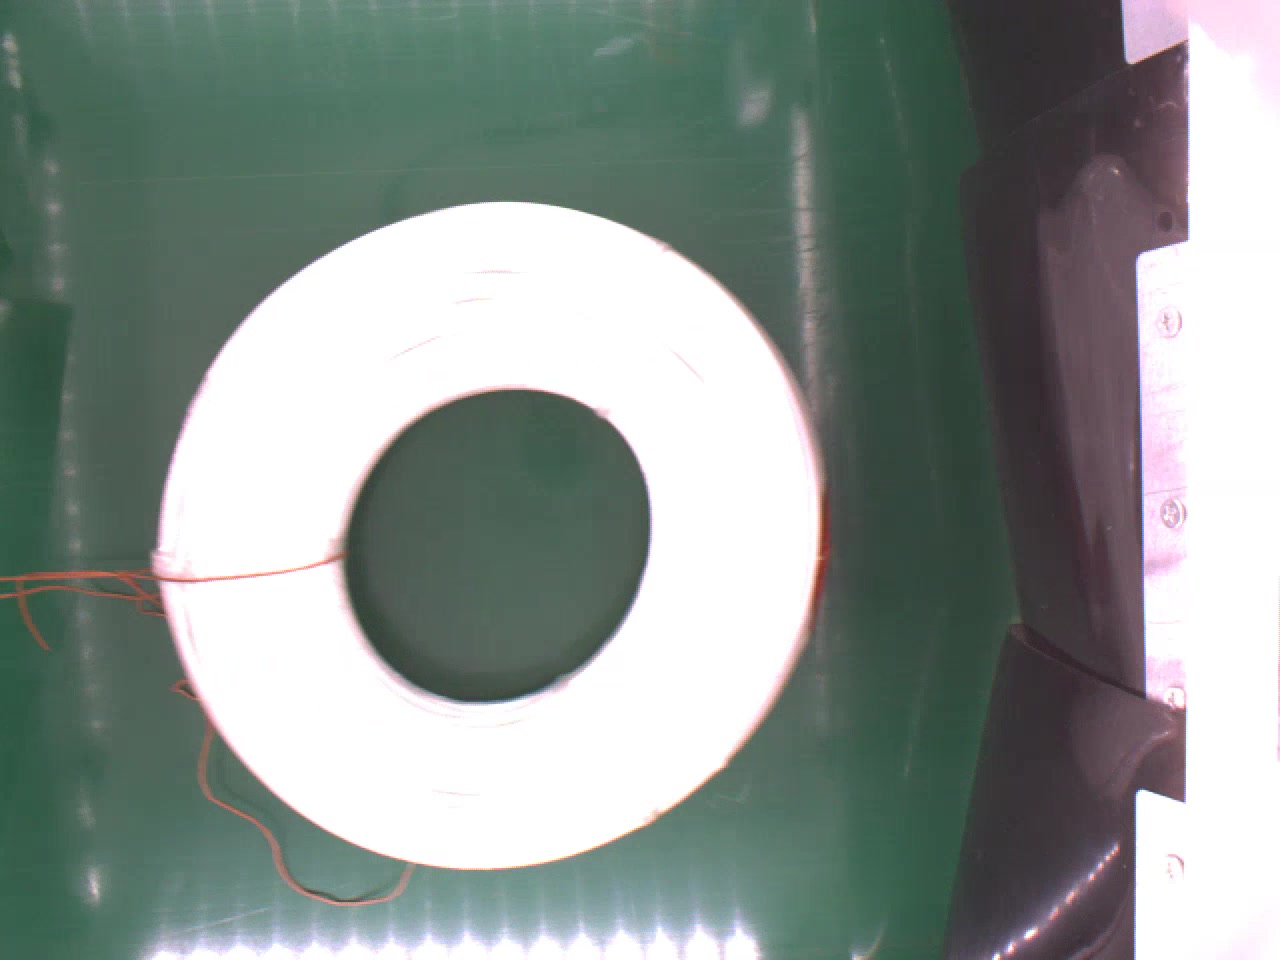white: (151, 195, 827, 878)
